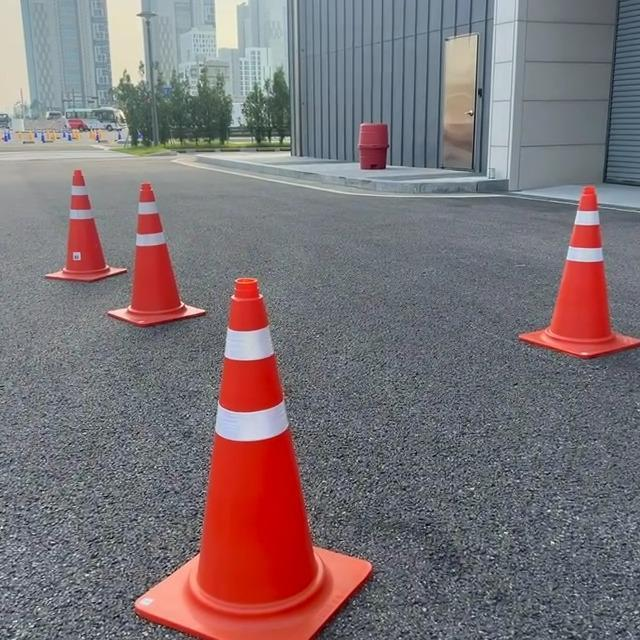fallen_object: (160, 273, 392, 640), (517, 170, 640, 474), (106, 170, 187, 362), (37, 146, 104, 327)
